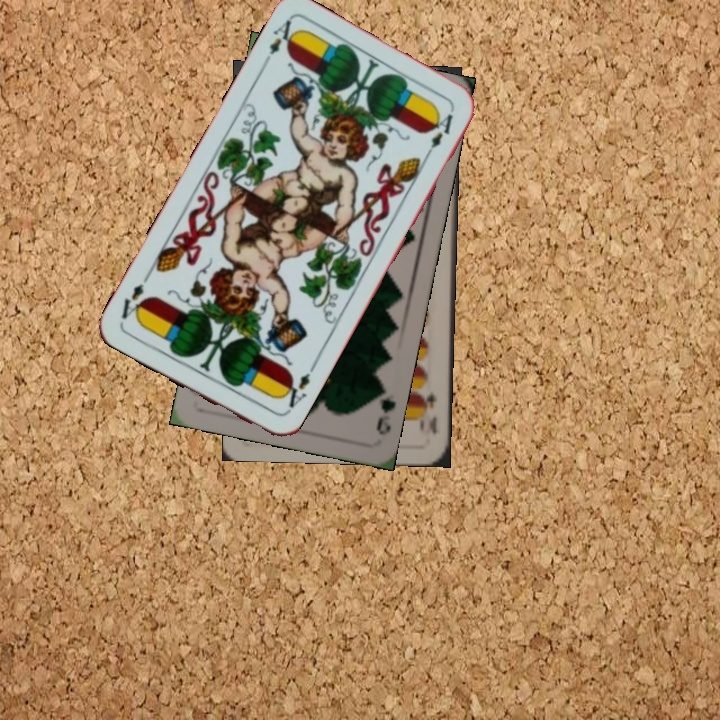E10: (416, 387, 440, 437)
EA: (258, 15, 301, 70), (276, 369, 313, 416)
G9: (372, 380, 399, 438)
